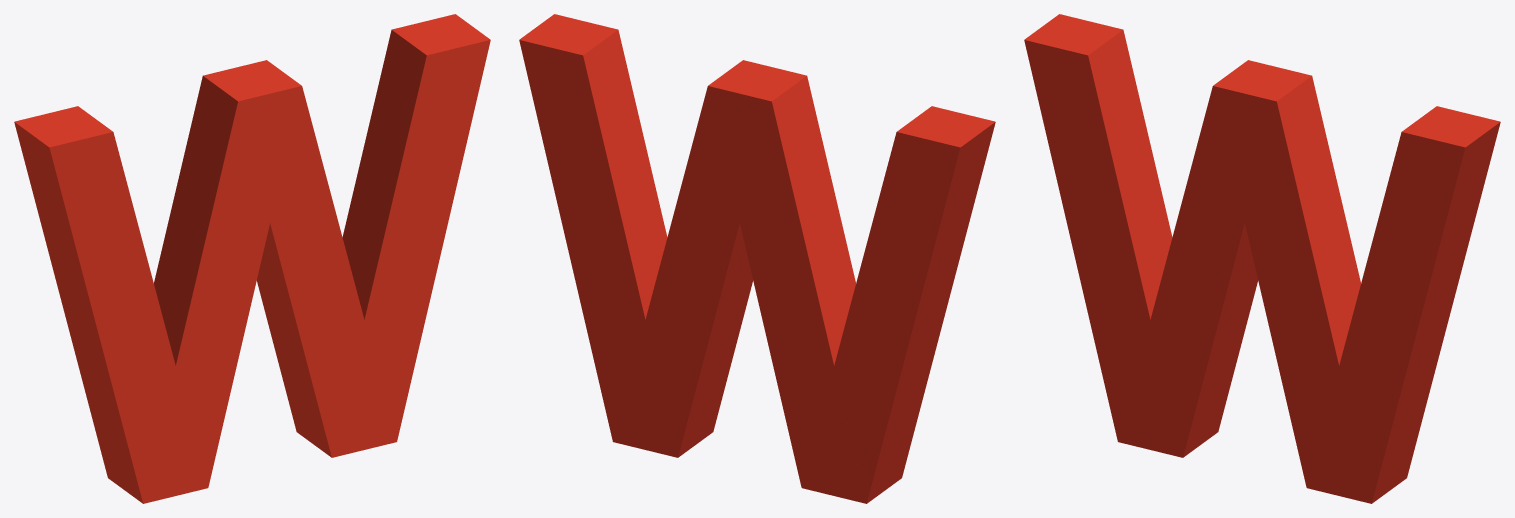
The model's file is Icon_Letter_W.fbx.
3 renders of one model, left to right at view 1: azimuth 30°, elevation 25°; view 2: azimuth 150°, elevation 25°; view 3: azimuth 330°, elevation 25°, orthographic.
Visible parts, largest first — view 1: Icon_Letter_W; view 2: Icon_Letter_W; view 3: Icon_Letter_W.
Boxes of the visible parts, x1,y1,x2,y2 form: Icon_Letter_W: [14, 14, 490, 503]; Icon_Letter_W: [519, 14, 995, 503]; Icon_Letter_W: [1024, 14, 1500, 503].
Size of the model in its own units: 87.05 by 71.49 by 12.06.
